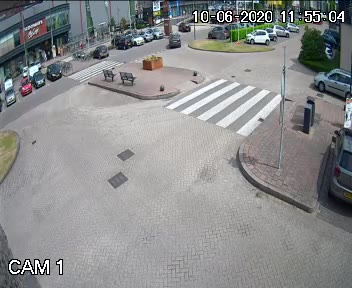car: (310, 62, 352, 104), (166, 31, 182, 50), (176, 20, 194, 36)
